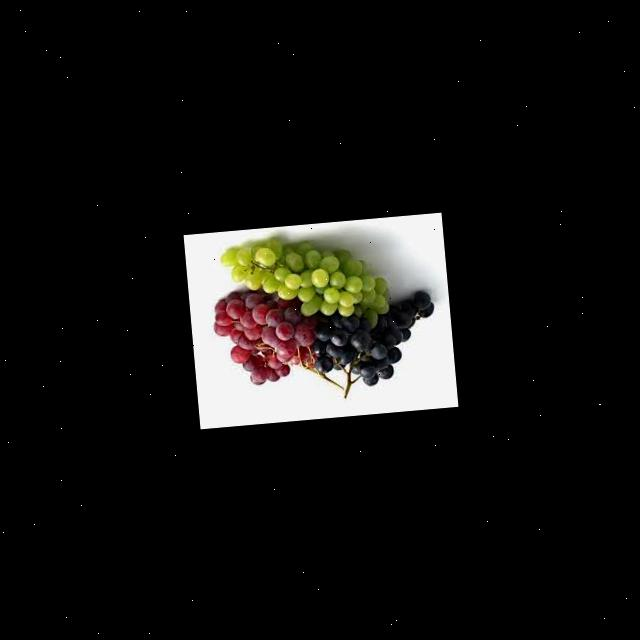grape: (205, 223, 441, 410)
